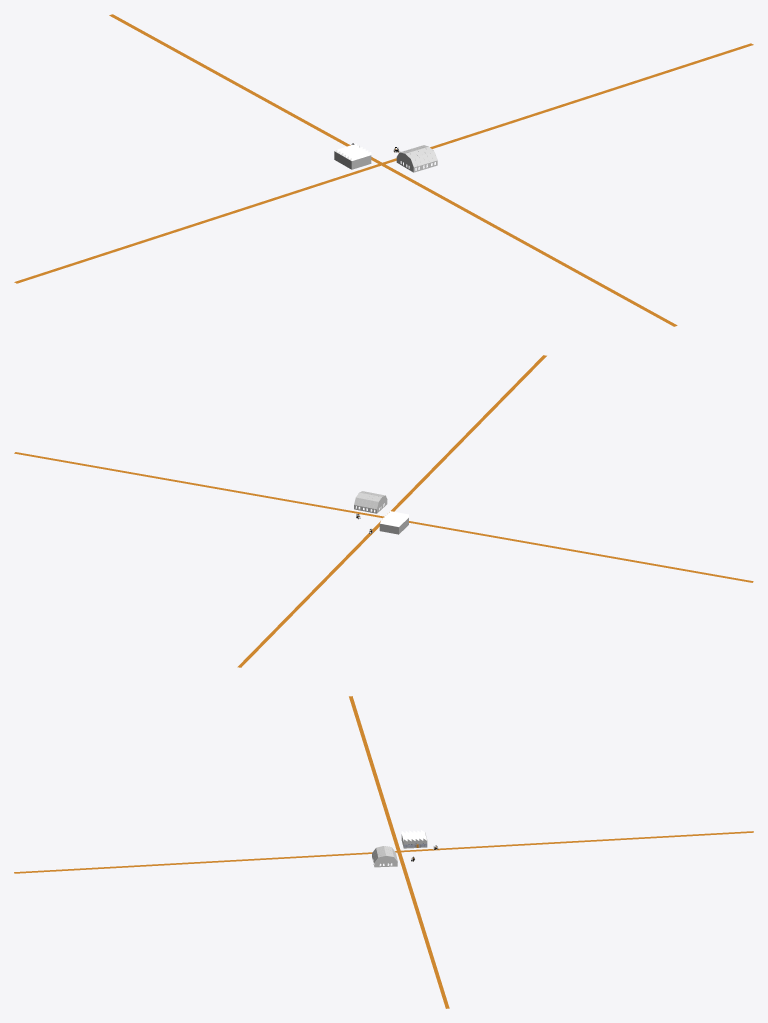
File: industria-transformed.glb
3 renders of one model, top to bottom at view 1: azimuth 30°, elevation 25°; view 2: azimuth 150°, elevation 25°; view 3: azimuth 270°, elevation 25°, orthographic. The views are drawn at different scales.
Parts seen in each view (by area): view 1: Plane.002, Plane; view 2: Plane.002, Plane; view 3: Plane, Plane.002.
Boxes of the visible parts, box(x1,y1,x2,y2) form: Plane.002: box(14, 43, 753, 283); Plane: box(109, 14, 677, 326); Plane.002: box(14, 452, 753, 582); Plane: box(237, 355, 546, 667); Plane: box(14, 831, 753, 873); Plane.002: box(349, 696, 449, 1008).
Bounding box in the file's own units: 378 × 6.33 × 378.
